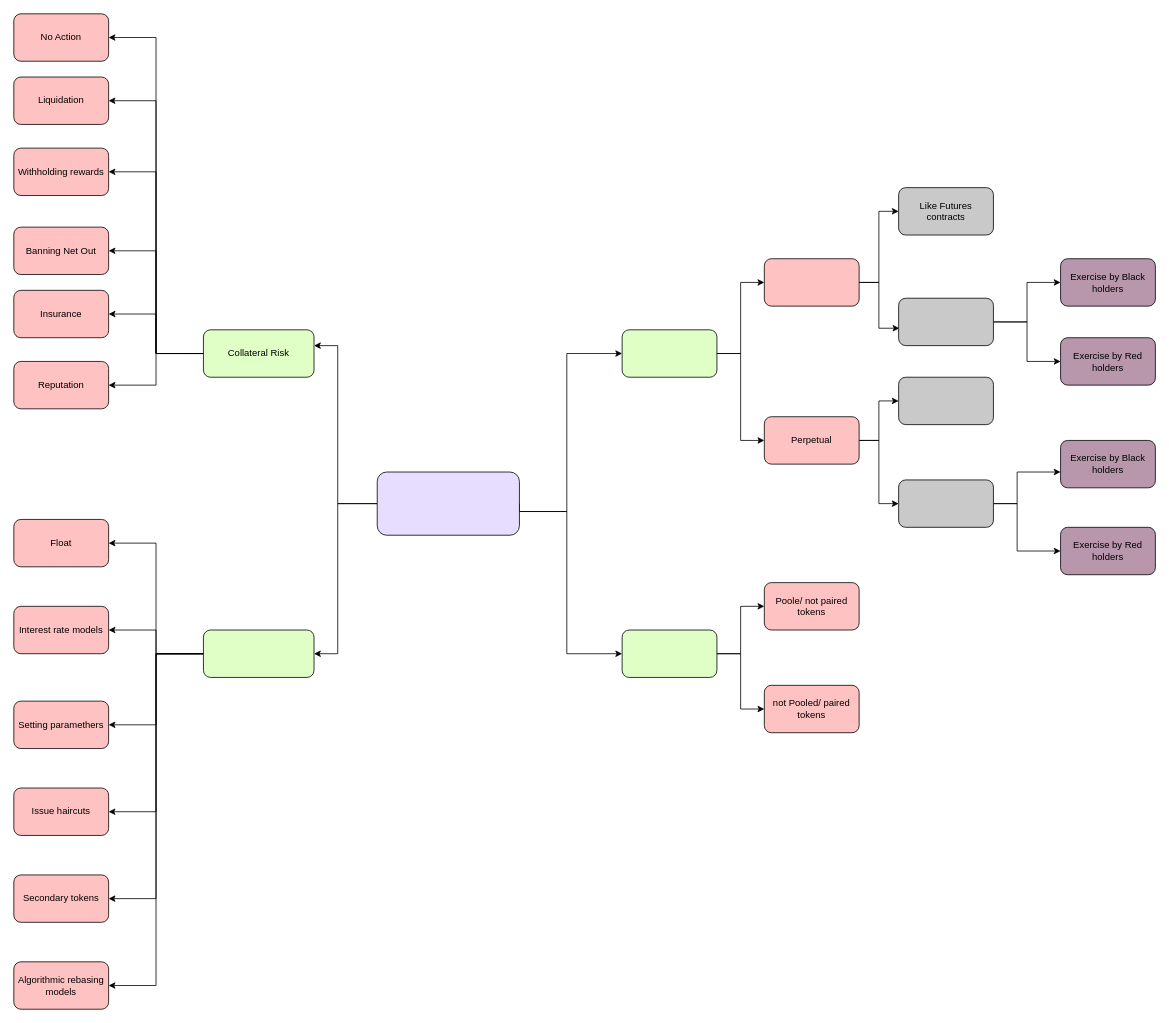
The diagram is 1169 pixels wide and 1023 high, and some of its shapes have lost their labels. The shapes that lost their labels are listed below. From the top down, each one's box as (x1, y1, x2, y2) in pixels, then its label:
(764, 258, 859, 306): Fixed maturity dates
(898, 297, 993, 346): like American option
(621, 329, 717, 377): Maturity dates
(898, 376, 993, 425): Without Exercise option
(376, 471, 519, 535): Indirectly-backed stable coins
(898, 479, 993, 527): With Exercise option
(203, 629, 314, 677): Intervention
(621, 629, 717, 677): Counter-party
